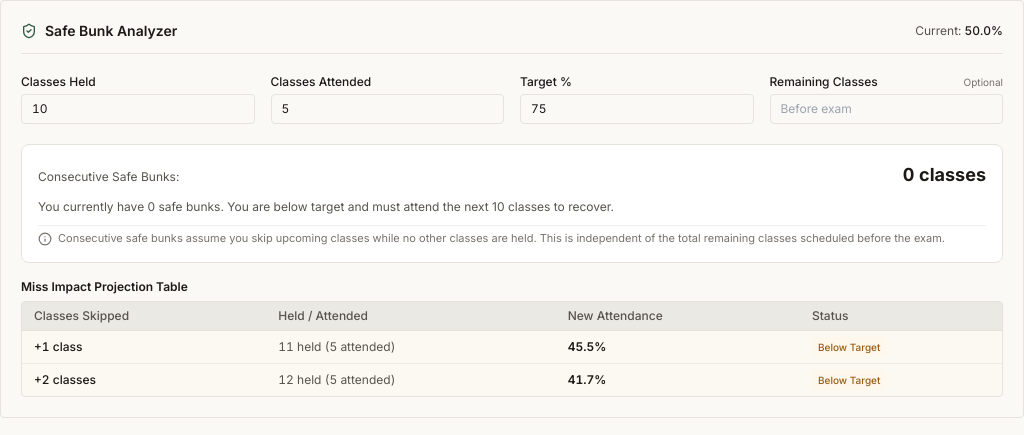
Test case: SafeBunkCalculator Component › validates invalid inputs and displays errors
This screenshot has width=1024, height=435.
Replace the text in the number field labelled "Classes Held" with "-2": {"x": 138, "y": 109} [21,94,254,124]
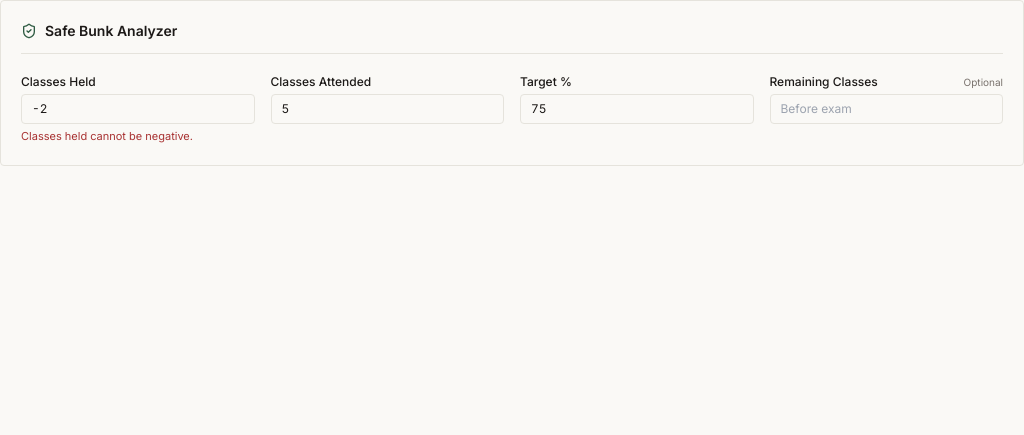
Expected: the message shows "cannot be negative", [21,129,193,143]
